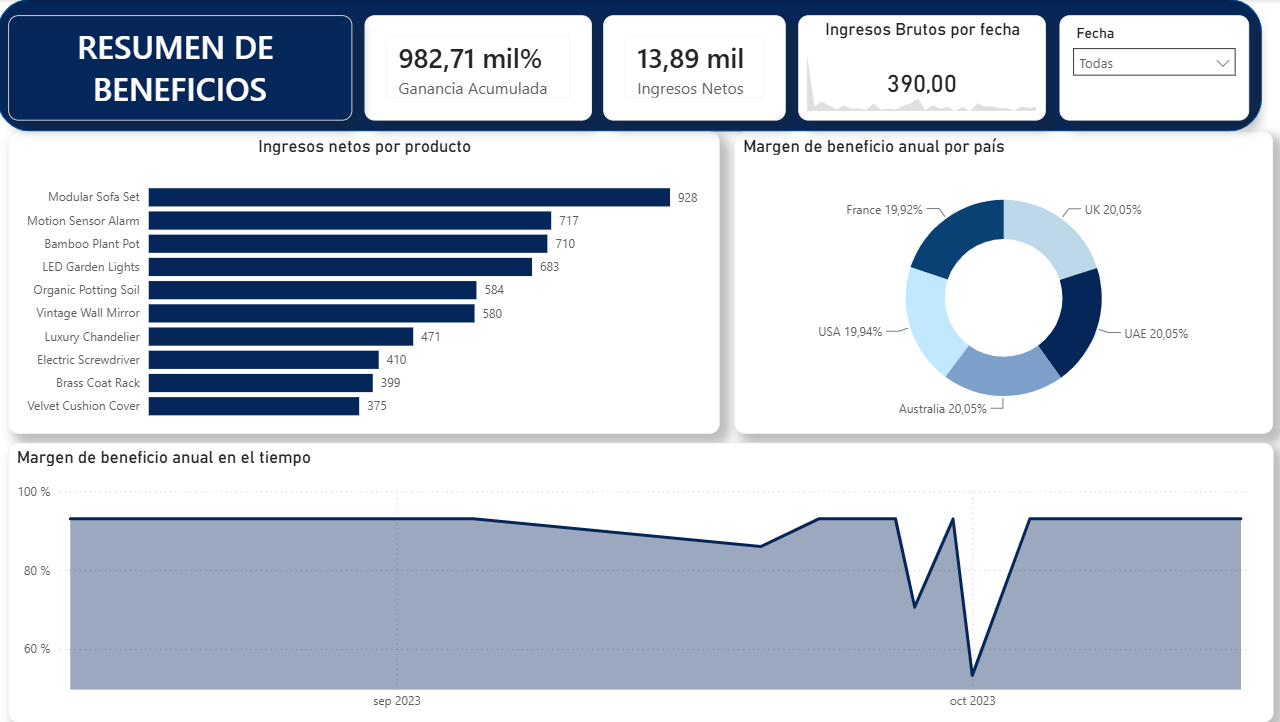

This screenshot's page, from the dashboard's own definition file:
{"tool":"powerbi","page":{"name":"Resumen de beneficios","canvas":[1280,720],"ordinal":1},"visuals":[{"type":"shape","box":[0,0,1258.9,131.9],"z":0},{"type":"clusteredBarChart","title":"Ingresos netos por producto","fields":{"Category":["Sales in USD.Product Name"],"Y":["Sum(Sales in USD.Ingresos Netos USD)"]},"box":[11.2,131.9,707.8,301],"z":1000},{"type":"donutChart","title":"Margen de beneficio anual por país","fields":{"Category":["Sales in USD.Country Name"],"Y":["Sales in USD.Margen de Beneficio Anual"]},"box":[733.9,131.9,536.1,301],"z":2000},{"type":"areaChart","title":"Margen de beneficio anual en el tiempo","fields":{"Category":["Calendar.Date"],"Y":["Sales in USD.Margen de Beneficio Anual"]},"box":[11.2,441.6,1258.9,278.6],"z":3000},{"type":"cardVisual","fields":{"Data":["Sales in USD.Beneficio YTD"]},"box":[365.7,16.2,226.4,104.5],"z":4000},{"type":"cardVisual","fields":{"Data":["Sum(Sales in USD.Ingresos Netos USD)"]},"box":[603.3,16.2,181.6,104.5],"z":5000},{"type":"kpi","title":"Ingresos Brutos por fecha","fields":{"Indicator":["Sum(Sales in USD.Ingresos Brutos USD)"],"TrendLine":["Calendar.Date"]},"box":[797.4,16.2,246.3,104.5],"z":6000},{"type":"slicer","fields":{"Values":["Calendar.Date"]},"box":[1057.4,16.2,189.1,104.5],"z":7000},{"type":"textbox","box":[11.2,16.2,342.1,104.5],"z":8000}]}

Visuals, with their boxes in screenshot pixels (x1, y1, x2, y2), scaled from the page's 1280x720 canvas onto the 1280x722 screenshot:
shape: (0,0,1259,132)
"Ingresos netos por producto" clusteredBarChart: (11,132,719,434)
"Margen de beneficio anual por país" donutChart: (734,132,1270,434)
"Margen de beneficio anual en el tiempo" areaChart: (11,443,1270,721)
cardVisual - Sales in USD.Beneficio YTD: (366,16,592,121)
cardVisual - Sum(Sales in USD.Ingresos Netos USD): (603,16,785,121)
"Ingresos Brutos por fecha" kpi: (797,16,1044,121)
slicer - Calendar.Date: (1057,16,1246,121)
textbox: (11,16,353,121)
